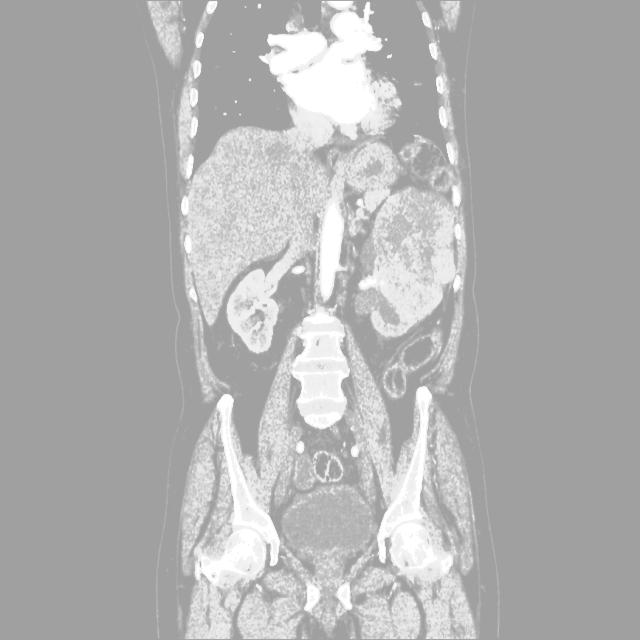TUMOR: (160, 207, 504, 414)
